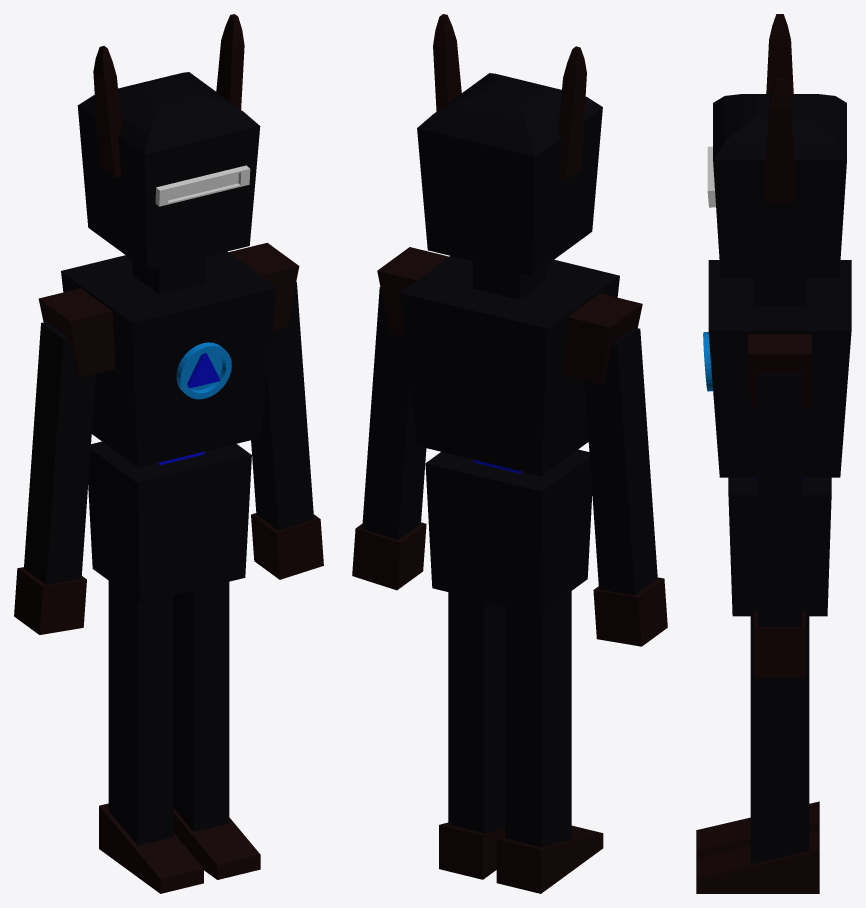
File: Robot.obj
The picture shows the model from 3 angles, left to right: view 1: azimuth 30°, elevation 25°; view 2: azimuth 150°, elevation 25°; view 3: azimuth 270°, elevation 25°; orthographic projection.
Parts seen in each view (by area): view 1: body, right_leg, right_arm, left_leg, left_arm; view 2: body, right_leg, right_arm, left_leg, left_arm; view 3: body, left_leg, left_arm, right_leg.
Part boxes in pixels (left/top/right/bottom): body: left=38, top=14, right=299, bottom=603; right_leg: left=99, top=581, right=203, bottom=893; right_arm: left=14, top=322, right=95, bottom=634; left_leg: left=173, top=582, right=260, bottom=879; left_arm: left=251, top=282, right=323, bottom=579; body: left=377, top=14, right=642, bottom=614; right_leg: left=496, top=591, right=603, bottom=893; right_arm: left=584, top=327, right=667, bottom=646; left_leg: left=439, top=592, right=505, bottom=879; left_arm: left=352, top=287, right=426, bottom=590; body: left=703, top=14, right=851, bottom=616; left_leg: left=696, top=616, right=819, bottom=893; left_arm: left=754, top=373, right=805, bottom=677; right_leg: left=696, top=801, right=819, bottom=857.
Size of the model in its own units: 4.28 by 11.79 by 2.02.
